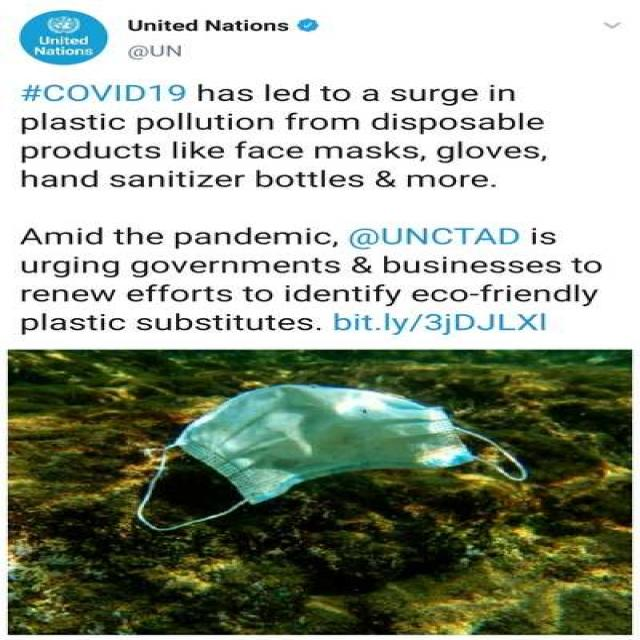non-organic waste: (130, 382, 531, 535)
